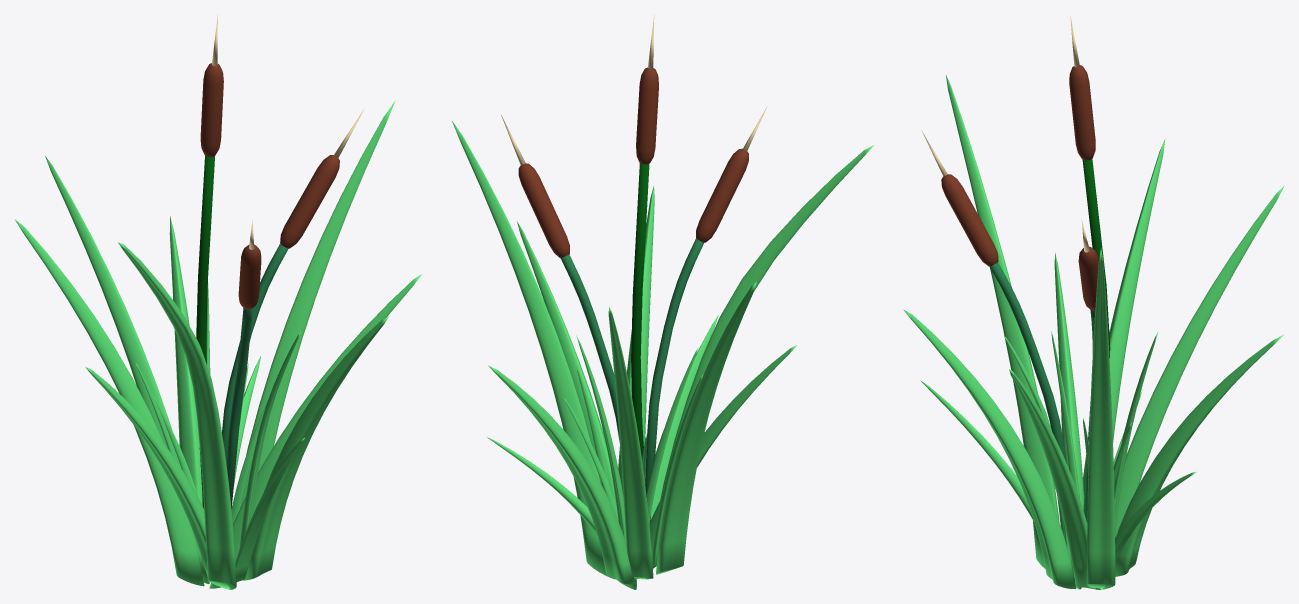
The model's file is cattail.fbx.
3 renders of one model, left to right at view 1: azimuth 30°, elevation 25°; view 2: azimuth 150°, elevation 25°; view 3: azimuth 270°, elevation 25°, orthographic. The views are drawn at different scales.
Visible parts, largest first — view 1: NurbsPath, NurbsPath.001, Cylinder, Cylinder.003, Cylinder.004, Cylinder.001, Cylinder.002, Cylinder.005; view 2: NurbsPath, NurbsPath.001, Cylinder, Cylinder.004, Cylinder.003, Cylinder.005, Cylinder.001, Cylinder.002; view 3: NurbsPath, NurbsPath.001, Cylinder.004, Cylinder.005, Cylinder.001, Cylinder, Cylinder.003.
Part boxes in pixels (<box>): NurbsPath: <box>15,101,421,589</box>; NurbsPath.001: <box>135,283,300,575</box>; Cylinder: <box>196,155,214,508</box>; Cylinder.003: <box>280,155,339,248</box>; Cylinder.004: <box>226,308,253,508</box>; Cylinder.001: <box>200,63,223,157</box>; Cylinder.002: <box>222,243,288,461</box>; Cylinder.005: <box>238,244,261,309</box>; NurbsPath: <box>452,121,873,589</box>; NurbsPath.001: <box>563,335,703,568</box>; Cylinder: <box>631,163,649,497</box>; Cylinder.004: <box>645,238,703,521</box>; Cylinder.003: <box>518,163,569,258</box>; Cylinder.005: <box>696,148,748,242</box>; Cylinder.001: <box>636,67,658,164</box>; Cylinder.002: <box>561,254,619,443</box>; NurbsPath: <box>903,75,1284,589</box>; NurbsPath.001: <box>1004,331,1158,573</box>; Cylinder.004: <box>990,262,1066,463</box>; Cylinder.005: <box>941,174,998,266</box>; Cylinder.001: <box>1069,65,1095,160</box>; Cylinder: <box>1082,159,1110,357</box>; Cylinder.003: <box>1078,246,1098,310</box>.
Size of the model in its own units: 516 by 808 by 489.
